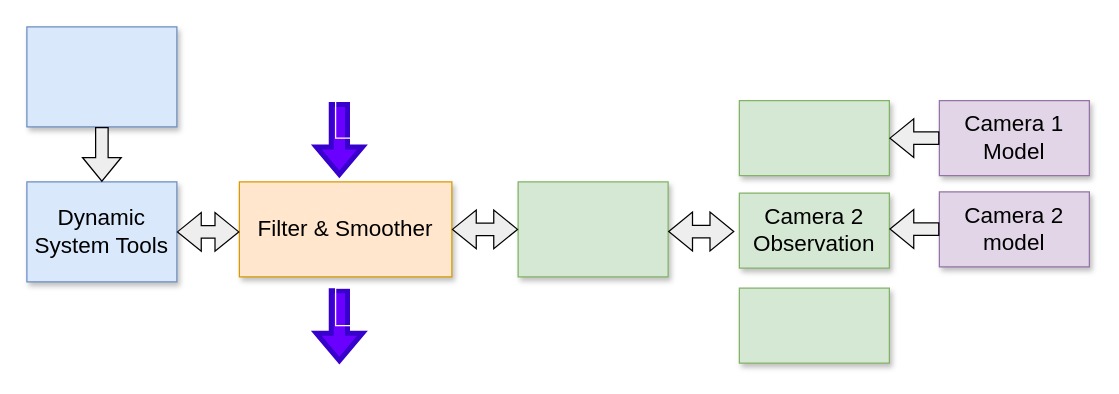
Some shapes in this 1119 by 394 pixel diagram are drawn without their labels. Here are the shapes that lost their labels. From the top down, the centre of each, then its label:
[102,78]: Dyanmic System Builder
[815,139]: Camera 1 Observation
[594,231]: Combine Observations
[815,327]: Additional Observations
